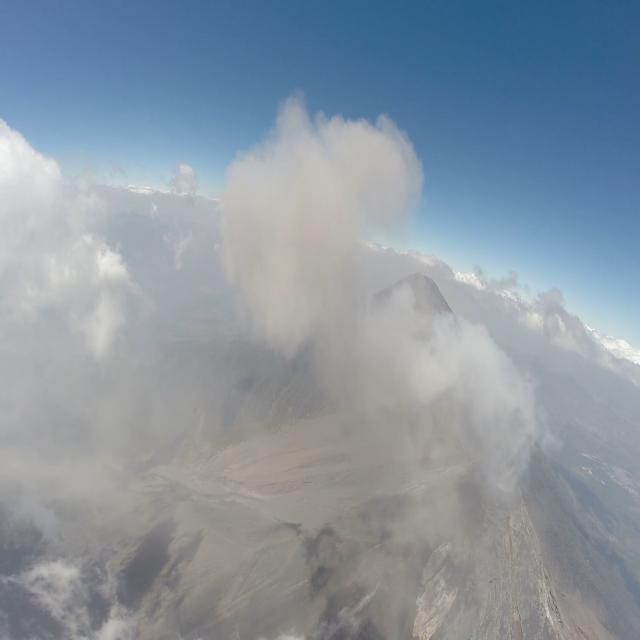Plume: (214, 70, 434, 386)
